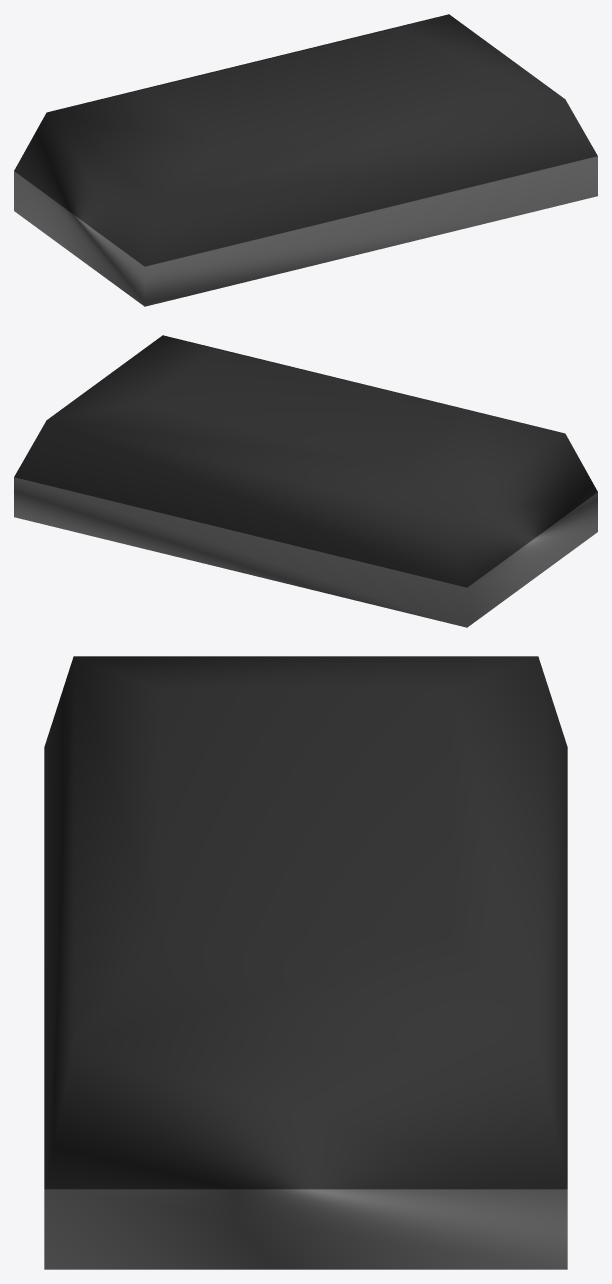
Rendered from WhiteboardEraser.glb.
The picture shows the model from 3 angles, top to bottom: view 1: azimuth 30°, elevation 25°; view 2: azimuth 150°, elevation 25°; view 3: azimuth 270°, elevation 25°; orthographic projection. The views are drawn at different scales.
Visible parts, largest first — view 1: MobileWhiteboardEraser; view 2: MobileWhiteboardEraser; view 3: MobileWhiteboardEraser.
Boxes of the visible parts, x1=… form: MobileWhiteboardEraser: x1=14, y1=14, x2=597, y2=306; MobileWhiteboardEraser: x1=14, y1=335, x2=597, y2=627; MobileWhiteboardEraser: x1=44, y1=656, x2=567, y2=1269.
Size of the model in its own units: 0.2949 by 0.073 by 0.1475.
Materials: 1 (1 with a texture image).
